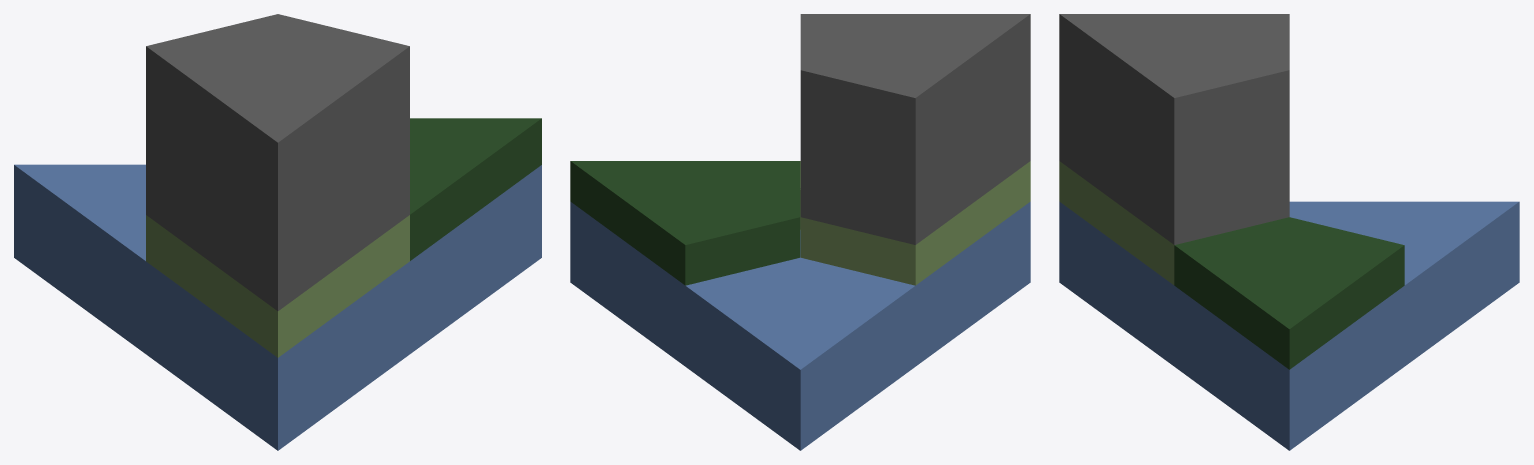
The model's file is tri_8.glb.
The picture shows the model from 3 angles, left to right: view 1: azimuth 30°, elevation 25°; view 2: azimuth 150°, elevation 25°; view 3: azimuth 270°, elevation 25°; orthographic projection. The views are drawn at different scales.
Parts seen in each view (by area): view 1: tri_8; view 2: tri_8; view 3: tri_8.
Boxes of the visible parts, box(x1,y1,x2,y2) form: tri_8: box(14, 14, 541, 450); tri_8: box(570, 14, 1030, 450); tri_8: box(1059, 14, 1519, 450).
Size of the model in its own units: 0.7423 by 0.5521 by 0.8571.
